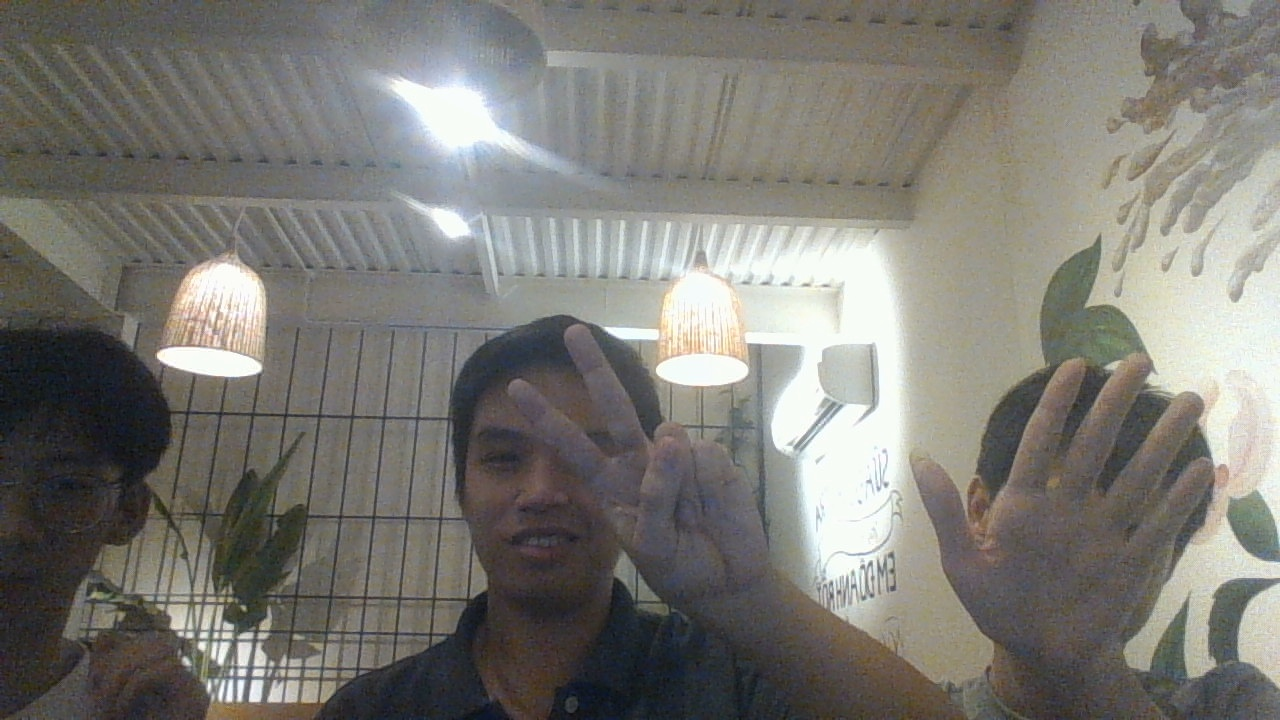check: (913, 345, 1216, 670)
stop: (88, 630, 216, 720)
wait: (507, 319, 771, 613)
